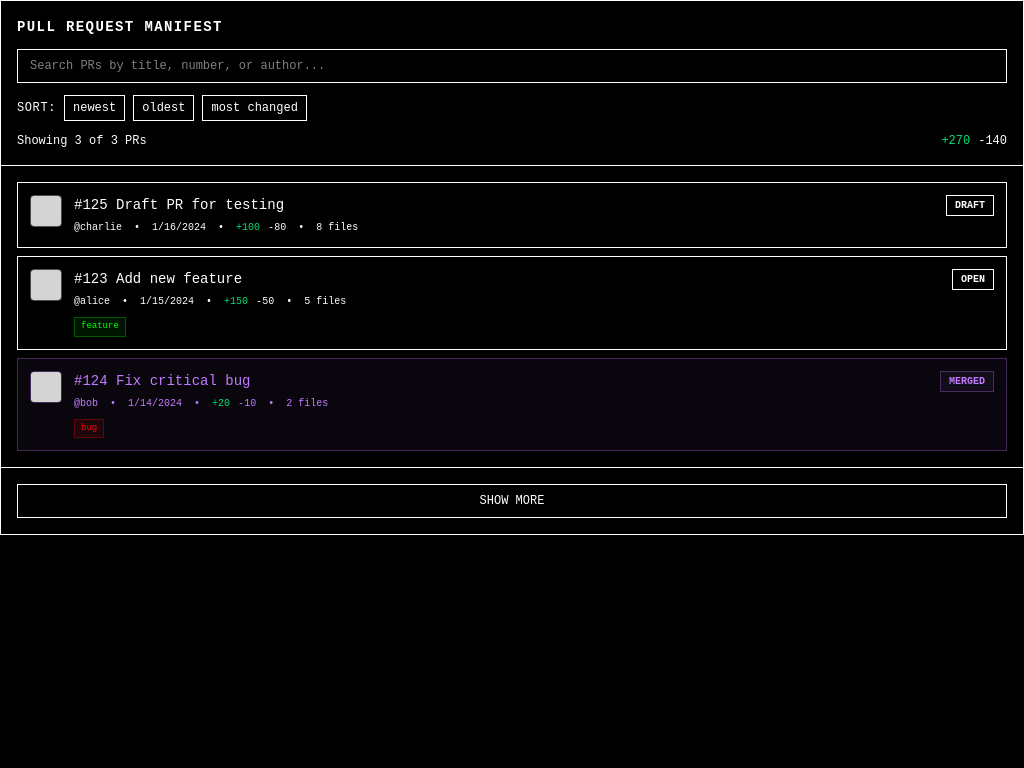
Test: InteractivePRViewer › shows no results message when filters match nothing
The width and height of the screenshot is (1024, 768).
Type "nonexistent" into the field with placeholder "Search PRs by title, number, or author...".
click(512, 66); type("nonexistent")  # box [17,49,1007,83]
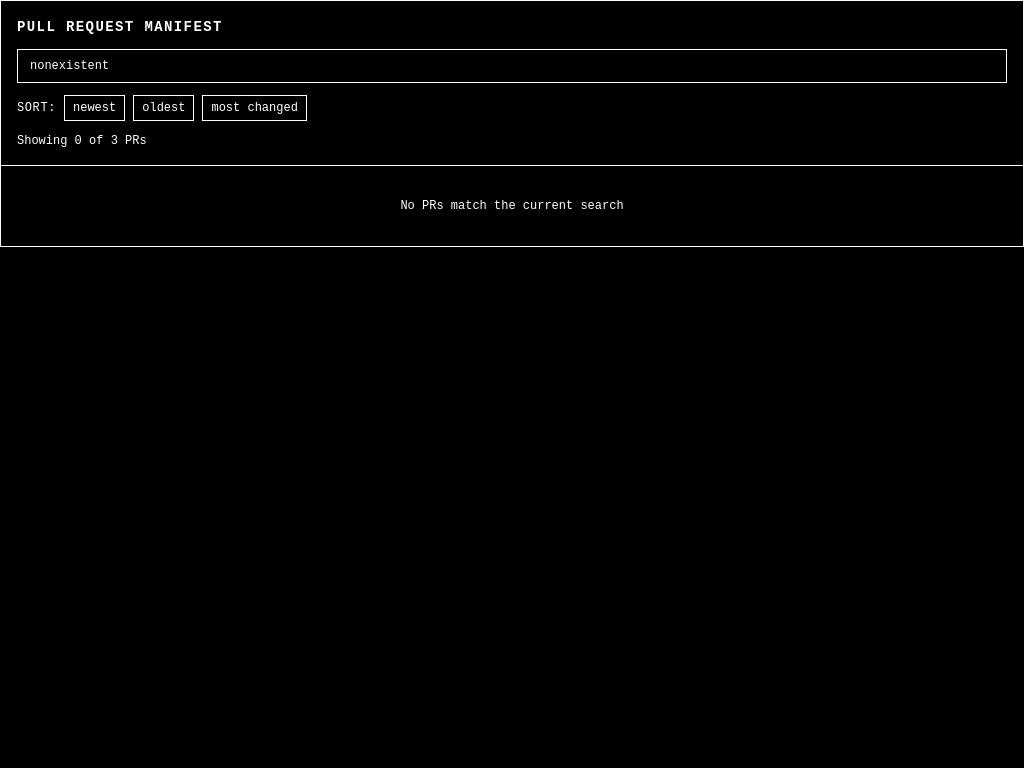
Now the text "No PRs match the current search" is shown, box [400,199,624,213]
